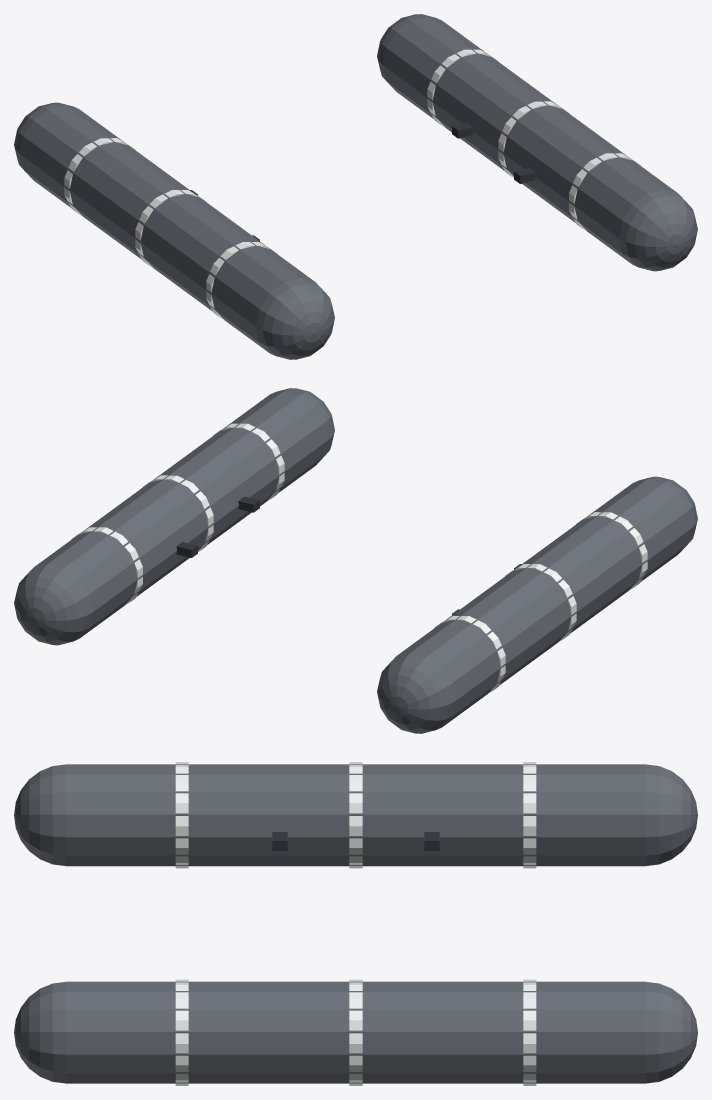
Rendered from hana_roadster.glb.
3 renders of one model, top to bottom at view 1: azimuth 30°, elevation 25°; view 2: azimuth 150°, elevation 25°; view 3: azimuth 270°, elevation 25°, orthographic. The views are drawn at different scales.
Visible parts, largest first — view 1: model; view 2: model; view 3: model.
Boxes of the visible parts, left/top/right/bottom form: model: left=14, top=14, right=697, bottom=359; model: left=14, top=388, right=697, bottom=733; model: left=14, top=762, right=697, bottom=1085.
Size of the model in its own units: 2.85 by 0.4897 by 3.15.
Materials: 1 (1 with a texture image).
